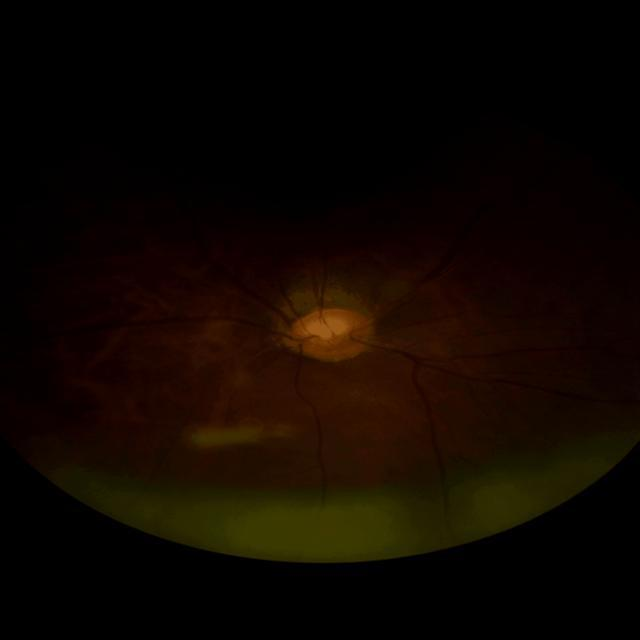cup: (296, 318, 356, 338)
disk: (286, 307, 374, 361)
